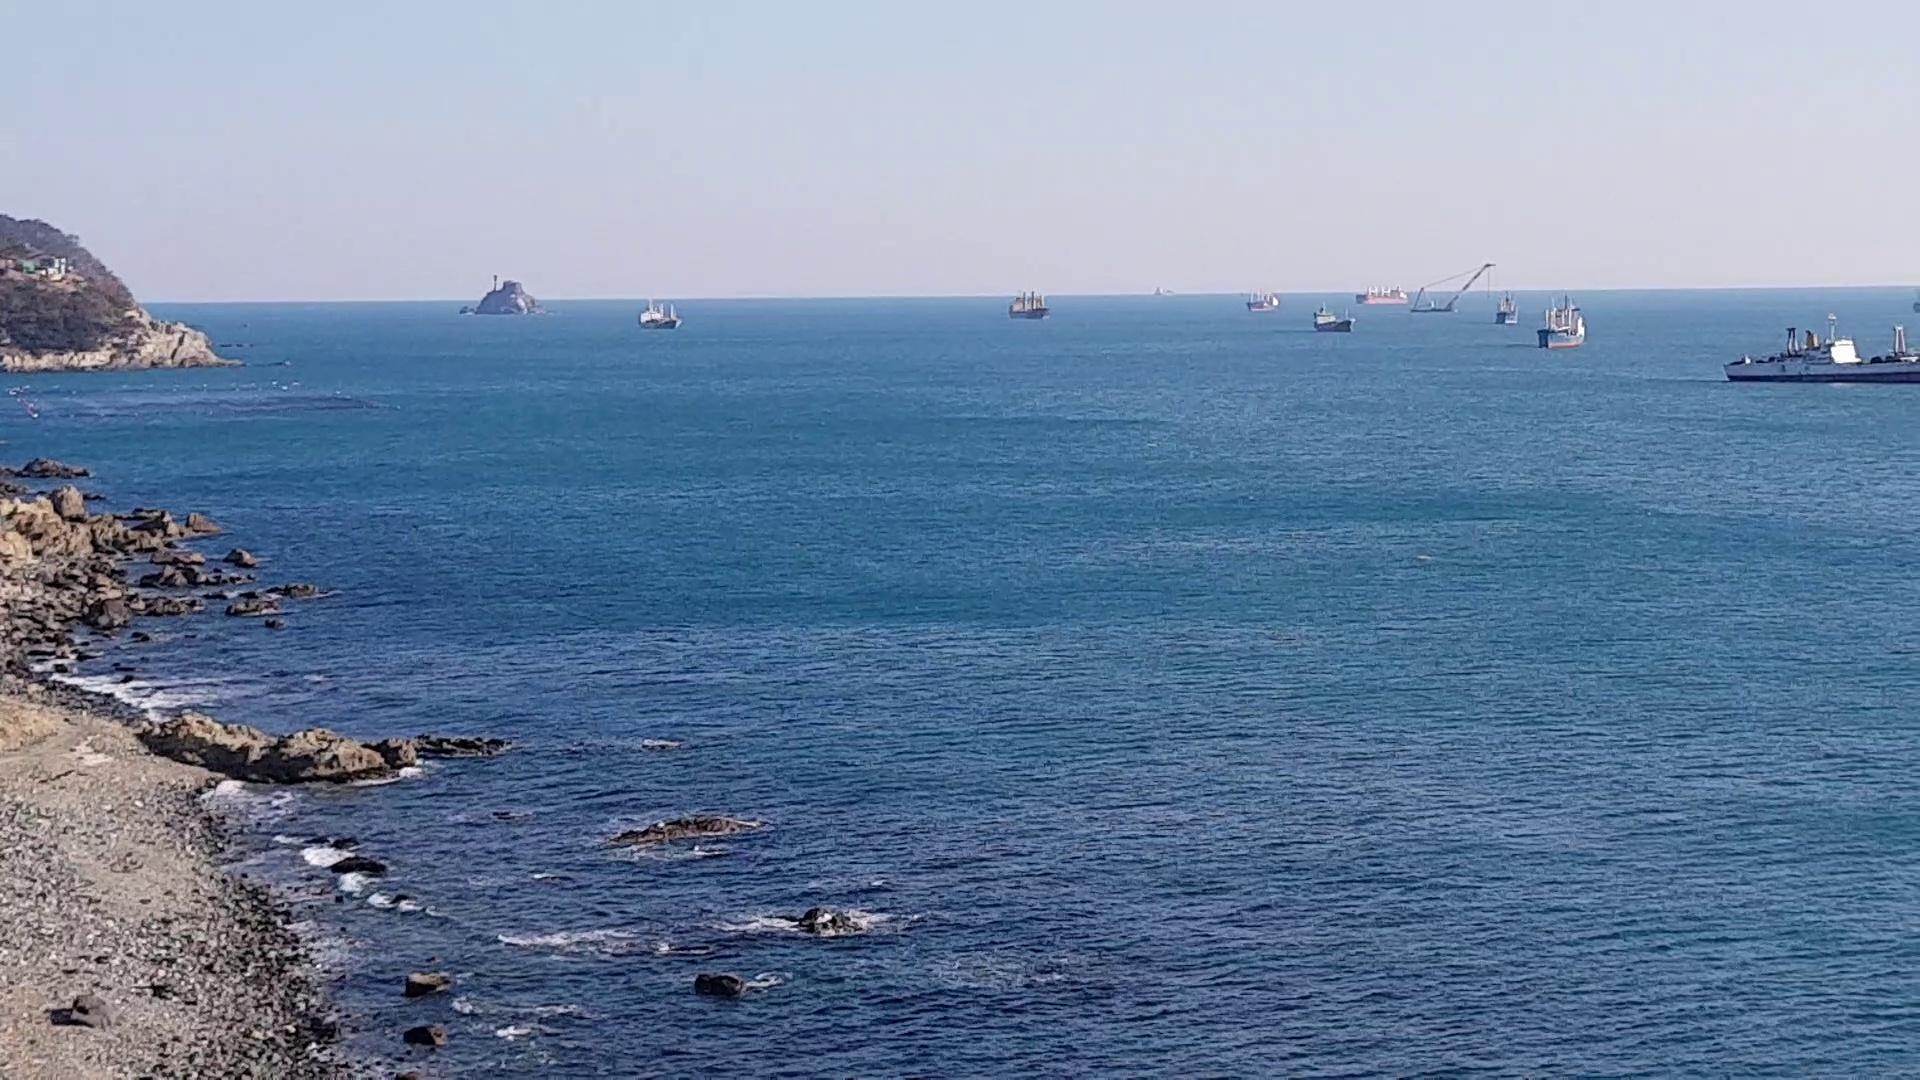Bulk_Carrier: (455, 290, 537, 316), (633, 307, 680, 326), (1007, 295, 1044, 316)
